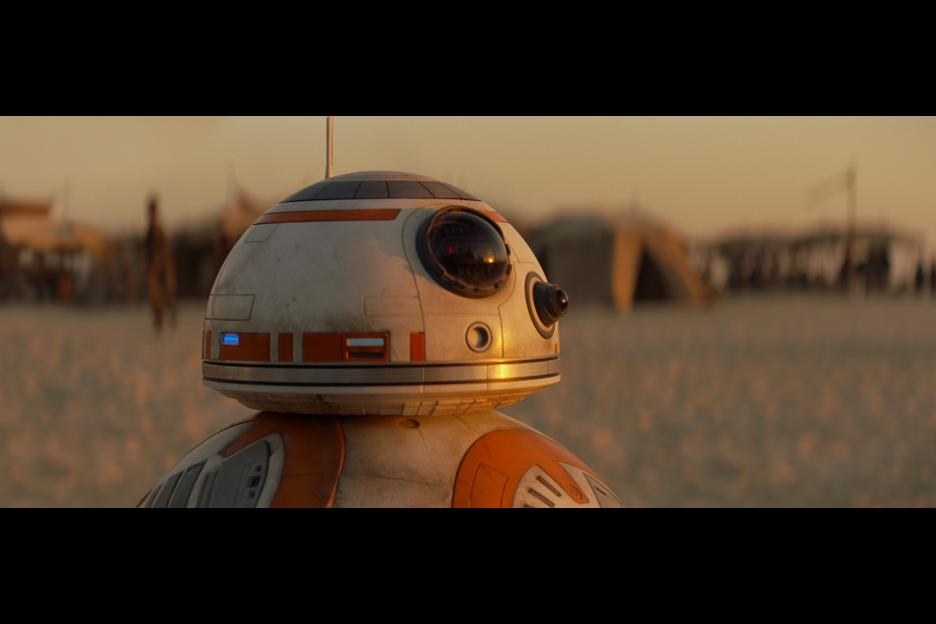bb8: (134, 170, 624, 506)
